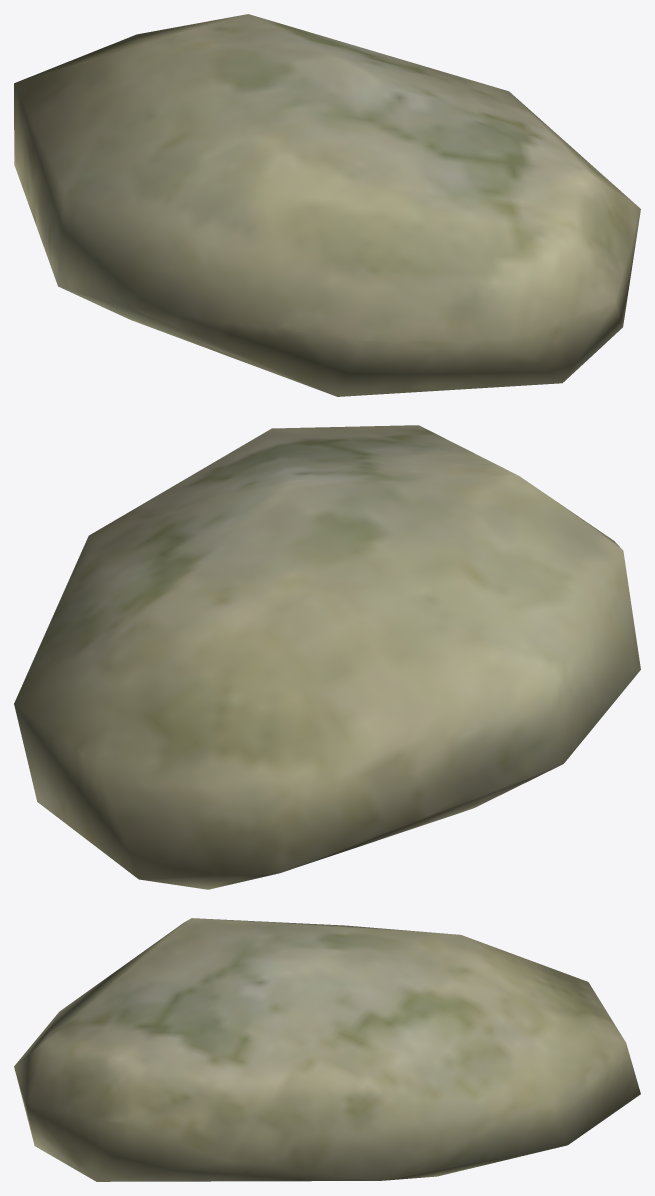
The model's file is SM_Pebble_2.fbx.
3 renders of one model, top to bottom at view 1: azimuth 30°, elevation 25°; view 2: azimuth 150°, elevation 25°; view 3: azimuth 270°, elevation 25°, orthographic. The views are drawn at different scales.
Visible parts, largest first — view 1: SM_Pebble_2_LOD0; view 2: SM_Pebble_2_LOD0; view 3: SM_Pebble_2_LOD0.
Boxes of the visible parts, x1,y1,x2,y2 form: SM_Pebble_2_LOD0: (14, 14, 640, 396); SM_Pebble_2_LOD0: (14, 425, 640, 889); SM_Pebble_2_LOD0: (14, 918, 640, 1181).
Size of the model in its own units: 13.47 by 18.96 by 6.87.
